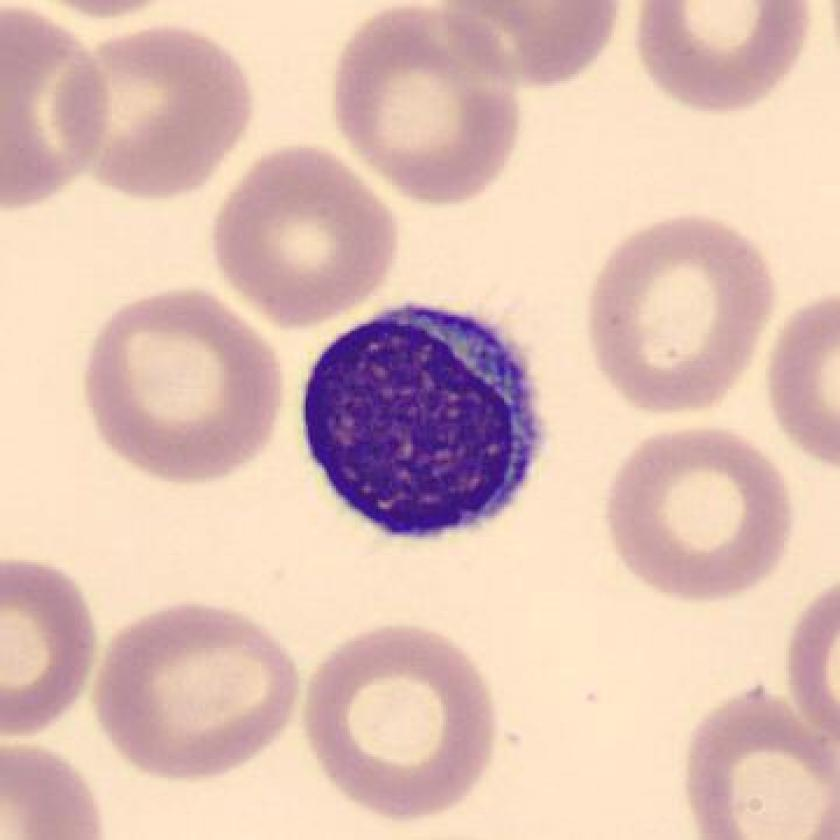lymphocyte: (283, 293, 566, 559)
